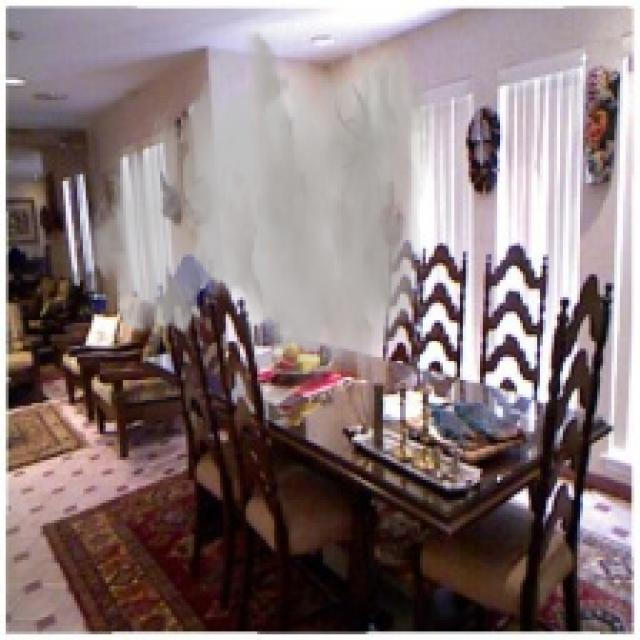smoke: (71, 29, 432, 417)
